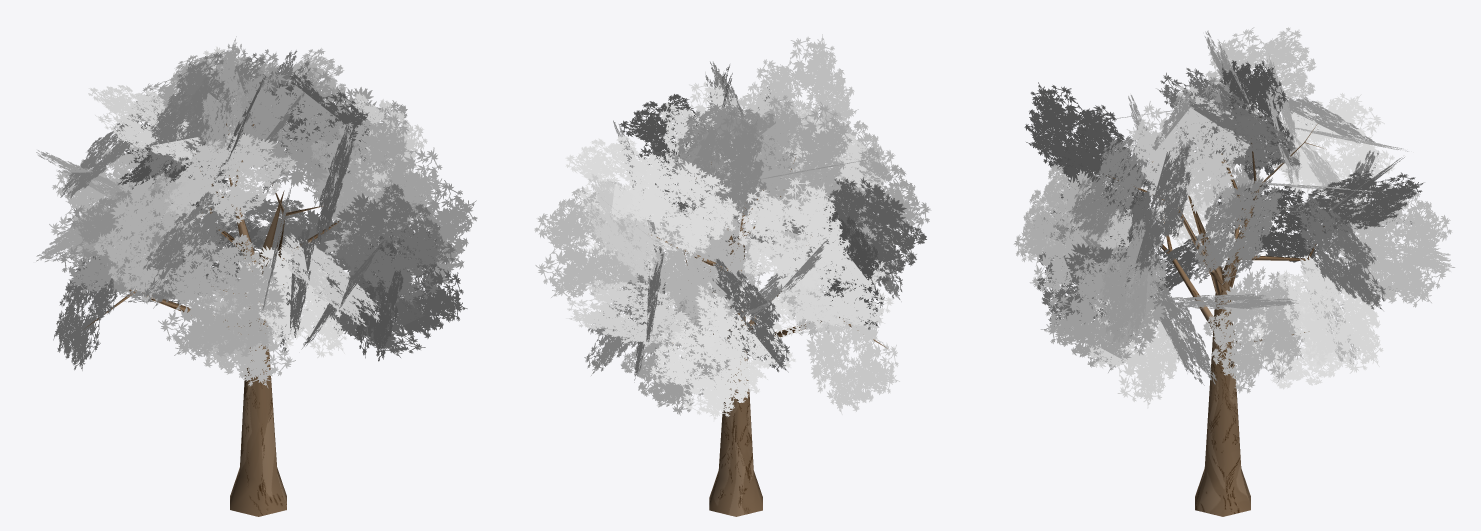
File: P_TREE2.fbx
3 views of the same model, side by side, from view 1: azimuth 30°, elevation 25°; view 2: azimuth 150°, elevation 25°; view 3: azimuth 270°, elevation 25° (orthographic). The views are drawn at different scales.
Visible parts, largest first — view 1: Plane.001, Trunk03; view 2: Plane.001, Trunk03; view 3: Plane.001, Trunk03.
Boxes of the visible parts, x1,y1,x2,y2 form: Plane.001: [36, 36, 477, 388]; Trunk03: [85, 123, 340, 516]; Plane.001: [534, 34, 931, 421]; Trunk03: [651, 157, 887, 516]; Plane.001: [1013, 27, 1455, 408]; Trunk03: [1106, 117, 1340, 516].
Bounding box in the file's own units: 236 × 263 × 251.
